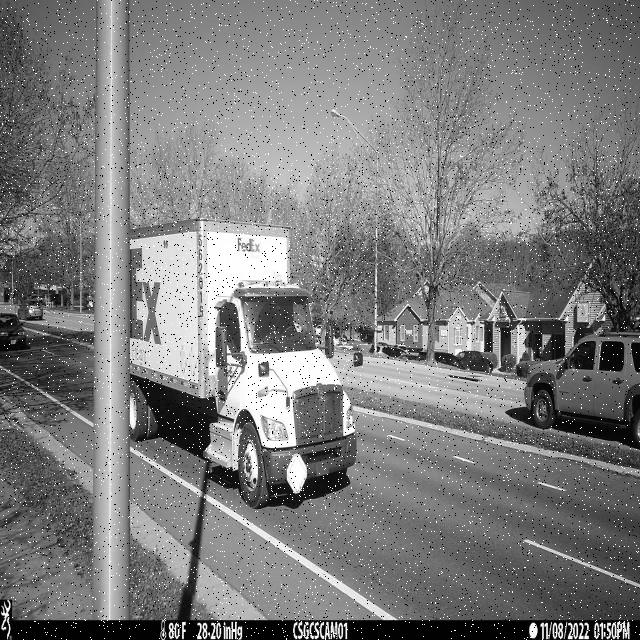Box Truck: (130, 217, 365, 510)
